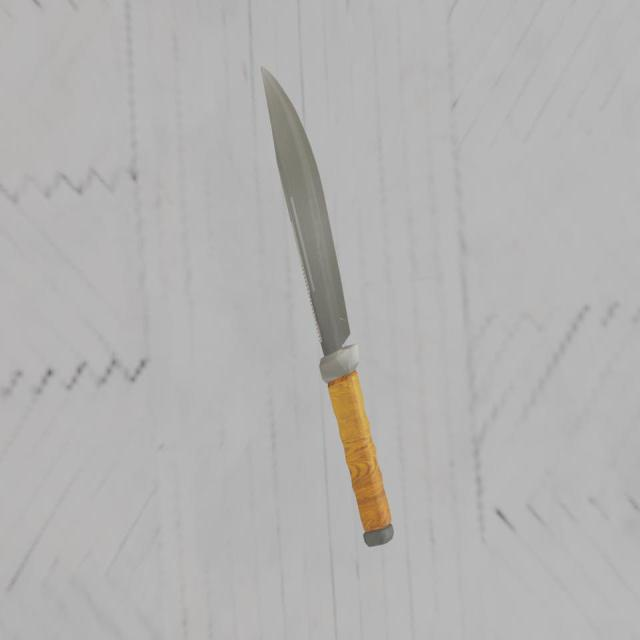knife: (322, 346, 390, 547)
